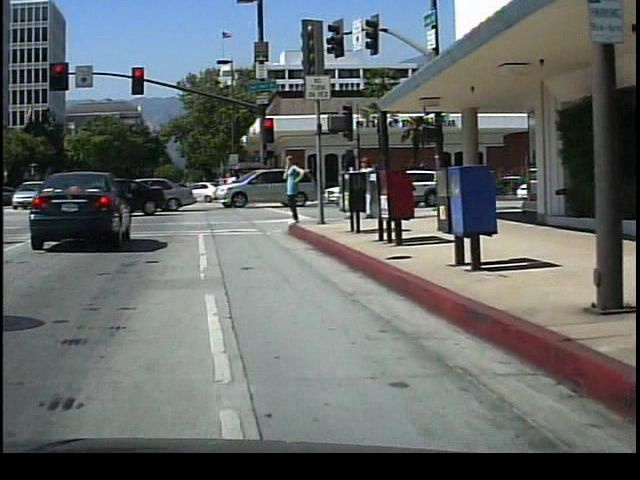person: (283, 149, 312, 226), (360, 151, 384, 221), (341, 150, 363, 219)
